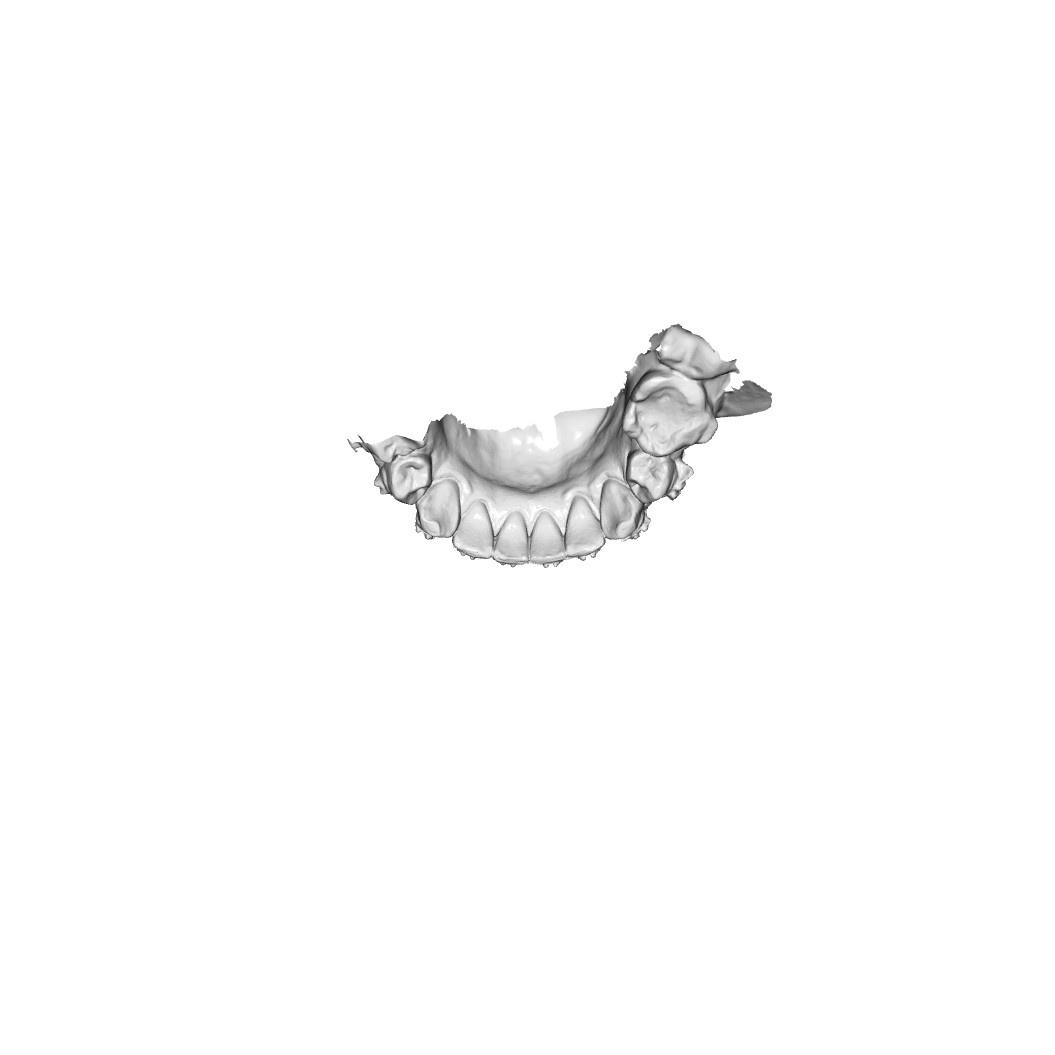canine: (415, 479, 468, 548), (598, 482, 646, 541)
incisor: (562, 496, 609, 559), (455, 504, 496, 561), (527, 516, 569, 571), (492, 514, 530, 567)
molar: (624, 370, 719, 458)
premolar: (624, 447, 678, 501), (386, 452, 433, 506)
